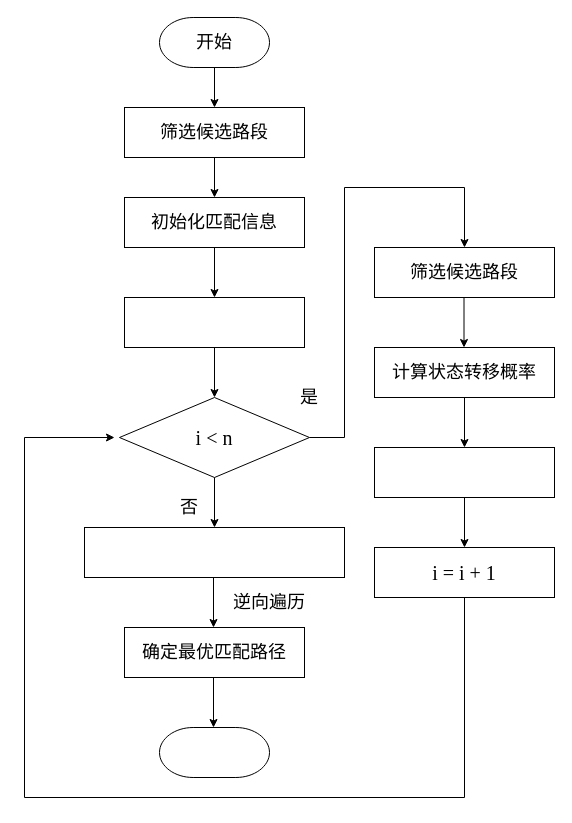
Some shapes in this 572 by 823 pixel diagram are drawn without their labels. Here are the shapes that lost their labels. From the top down, the centre of each, then its label:
At (214,322): "i = 1".
At (464,472): "更新匹配信息".
At (214,552): "确定 i = n 时 的最优匹配路段".
At (214,752): "结束".
